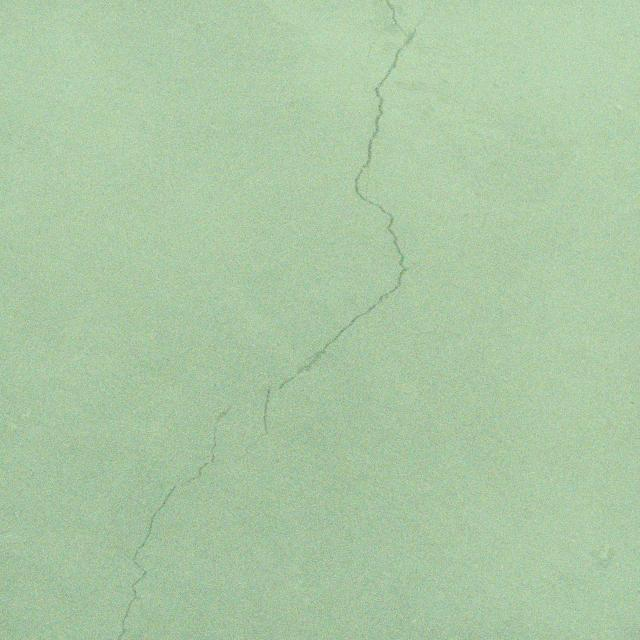crack: (230, 0, 431, 463), (103, 392, 240, 640)
